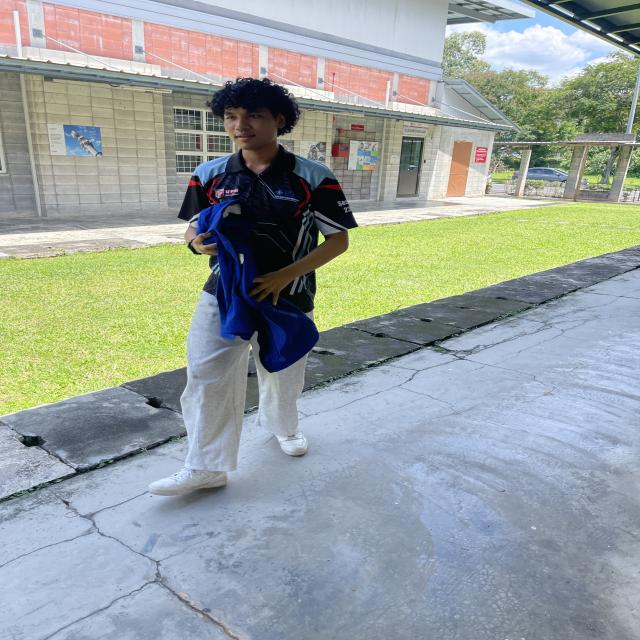person_without_labcoat: (150, 78, 357, 495)
